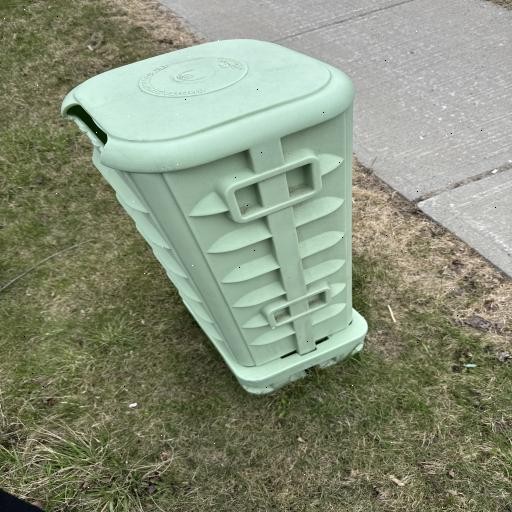Electrical Box: (59, 36, 374, 398)
